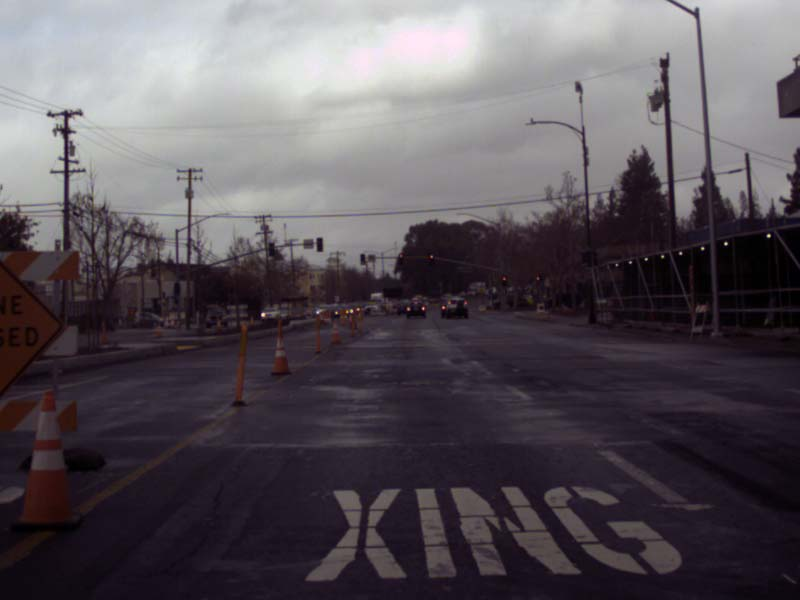Red: (501, 275, 506, 286), (398, 254, 403, 264), (429, 253, 433, 264), (360, 254, 364, 264), (536, 275, 540, 285)
